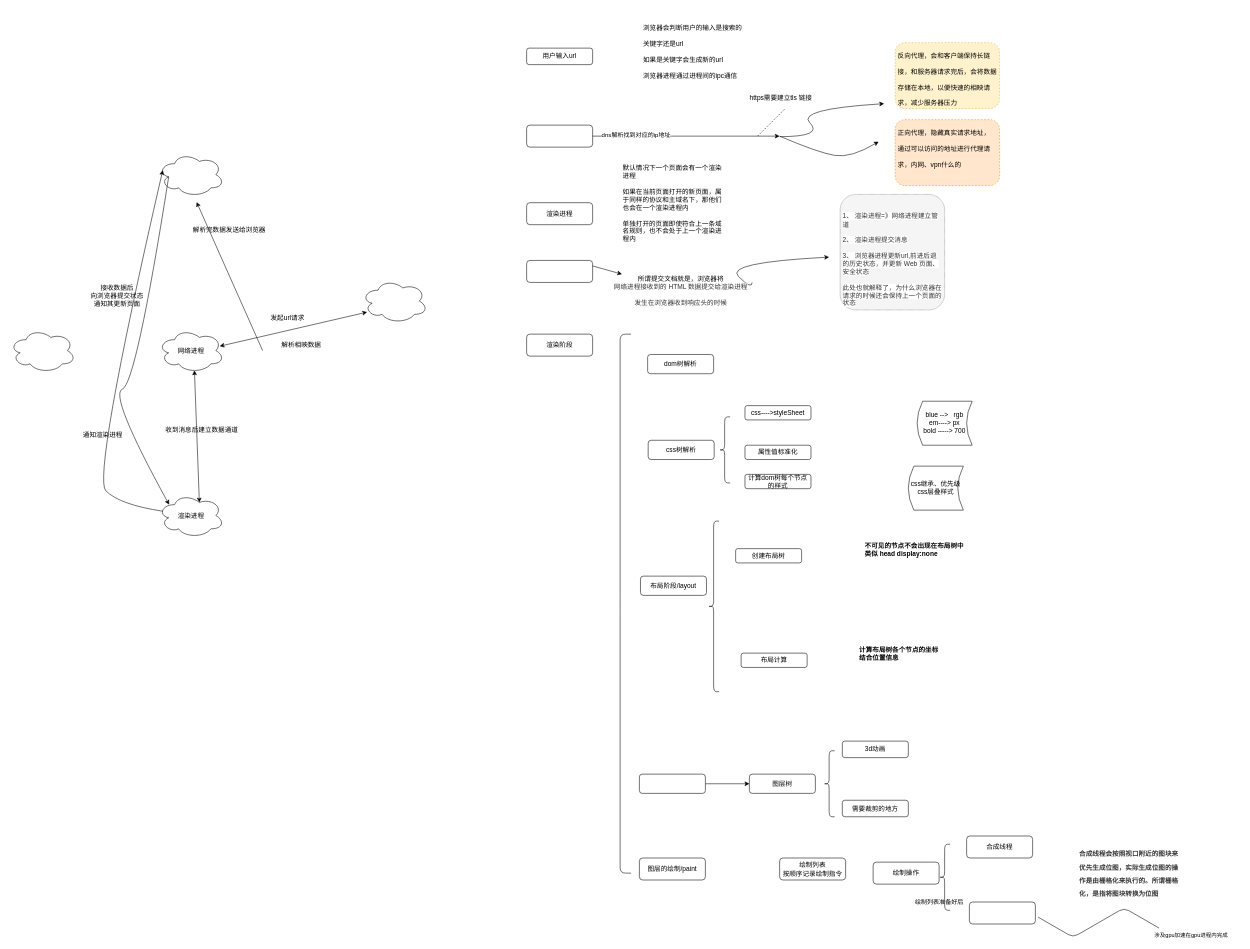
This 1250x949 diagram has some shape labels left out. Each missing label, with the box of its shape:
data: (361, 279, 428, 323)
url: (9, 328, 76, 373)
url的请求过程: (526, 125, 593, 147)
分层/layer: (639, 774, 705, 793)
提交文档: (526, 260, 593, 282)
栅格化线程: (969, 901, 1035, 924)
浏览器进程: (158, 152, 224, 197)
